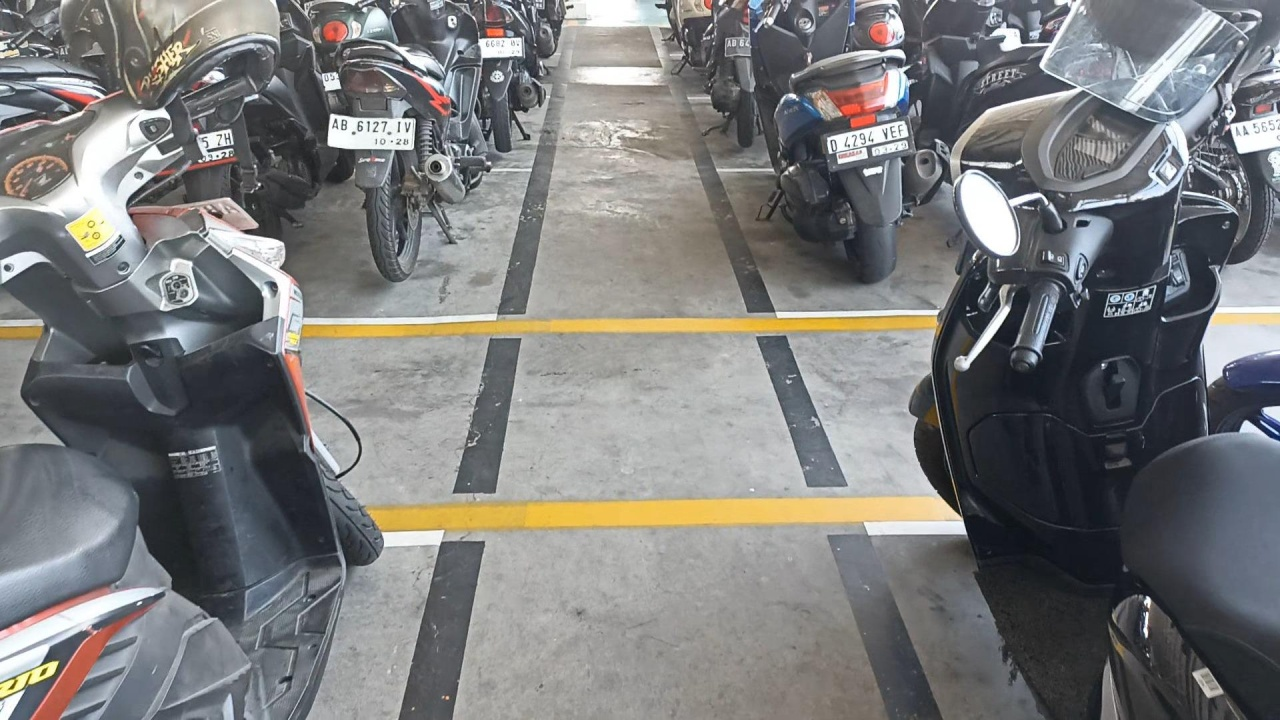plate: (825, 117, 915, 170), (328, 113, 416, 150)
